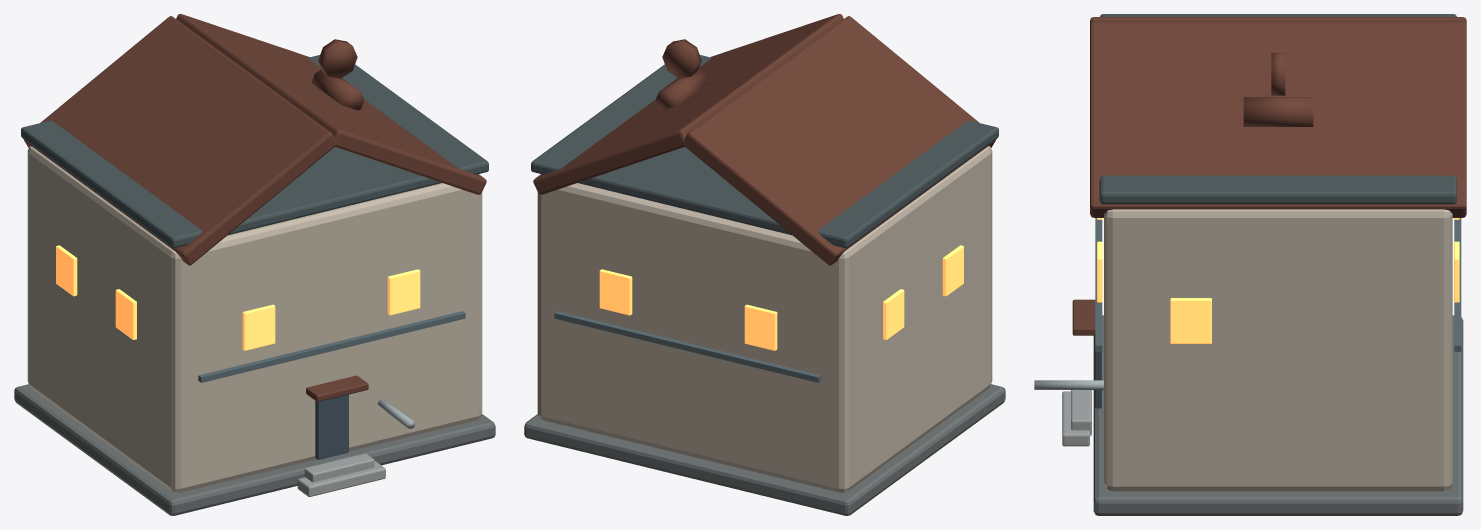
File: residential_house_detached.glb
3 views of the same model, side by side, from view 1: azimuth 30°, elevation 25°; view 2: azimuth 150°, elevation 25°; view 3: azimuth 270°, elevation 25° (orthographic). The views are drawn at different scales.
Parts seen in each view (by area): view 1: main_massing, sloped_roof, roof_slab, sloped_roof.001, foundation, facade_band_front, entry_door, front_window, front_window.001, step_lower, chimney_cap, step_upper (+4 smaller); view 2: main_massing, sloped_roof, roof_slab, foundation, sloped_roof.001, facade_band_rear, rear_window, rear_window.001, chimney_cap, chimney, side_window_l, side_window_l.001; view 3: main_massing, sloped_roof.001, foundation, roof_slab, sloped_roof, chimney, side_window_r, entry_canopy, step_upper, step_lower, facade_band_rear, facade_band_front (+2 smaller).
Boxes of the visible parts, <box> form: main_massing: <box>27,146,482,492</box>; sloped_roof: <box>23,16,335,265</box>; roof_slab: <box>21,55,488,248</box>; sloped_roof.001: <box>176,14,486,194</box>; foundation: <box>14,384,495,515</box>; facade_band_front: <box>198,311,465,382</box>; entry_door: <box>315,394,348,459</box>; front_window: <box>242,304,275,350</box>; front_window.001: <box>387,269,420,315</box>; step_lower: <box>297,460,385,496</box>; chimney_cap: <box>318,39,357,78</box>; step_upper: <box>304,453,374,482</box>; main_massing: <box>537,146,992,492</box>; sloped_roof: <box>684,16,996,265</box>; roof_slab: <box>531,55,998,248</box>; foundation: <box>524,384,1005,515</box>; sloped_roof.001: <box>533,14,843,194</box>; facade_band_rear: <box>554,311,821,382</box>; rear_window: <box>744,304,777,350</box>; rear_window.001: <box>599,269,632,315</box>; chimney_cap: <box>662,39,701,78</box>; chimney: <box>655,69,708,110</box>; side_window_l: <box>883,289,904,339</box>; side_window_l.001: <box>942,245,963,296</box>; main_massing: <box>1104,209,1452,491</box>; sloped_roof.001: <box>1090,22,1466,217</box>; foundation: <box>1093,315,1463,515</box>; roof_slab: <box>1099,14,1456,204</box>; sloped_roof: <box>1090,17,1466,25</box>; chimney: <box>1243,97,1313,126</box>; side_window_r: <box>1170,298,1211,343</box>; entry_canopy: <box>1072,299,1095,335</box>; step_upper: <box>1071,390,1091,435</box>; step_lower: <box>1062,391,1089,446</box>; facade_band_rear: <box>1454,218,1461,351</box>; facade_band_front: <box>1095,218,1102,351</box>.
Bounding box in the file's own units: 1.26 × 1.32 × 1.24.
